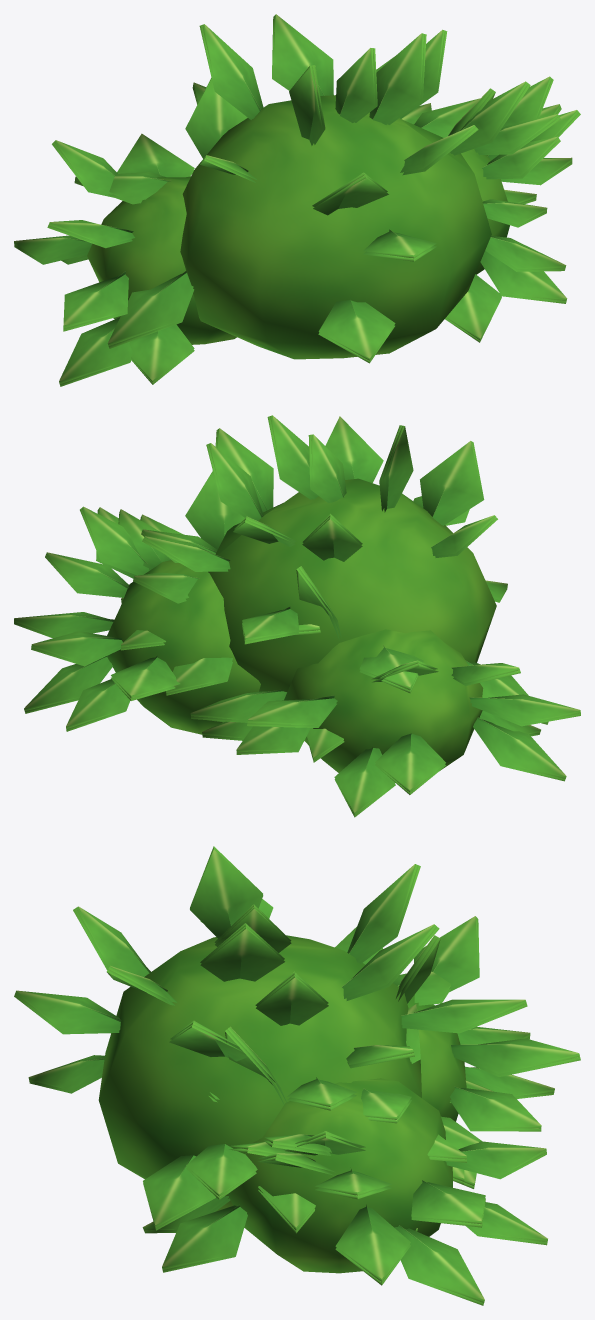
Rendered from Kit_BushA.fbx.
3 views of the same model, one above another, from view 1: azimuth 30°, elevation 25°; view 2: azimuth 150°, elevation 25°; view 3: azimuth 270°, elevation 25° (orthographic). The views are drawn at different scales.
Parts seen in each view (by area): view 1: Kit_BushA; view 2: Kit_BushA; view 3: Kit_BushA.
Part boxes in pixels (x1,y1,x2,y2): Kit_BushA: (14,14,580,386); Kit_BushA: (14,415,580,817); Kit_BushA: (14,846,580,1305).
Size of the model in its own units: 9.98 by 5.28 by 8.08.
Materials: 1 (1 with a texture image).
